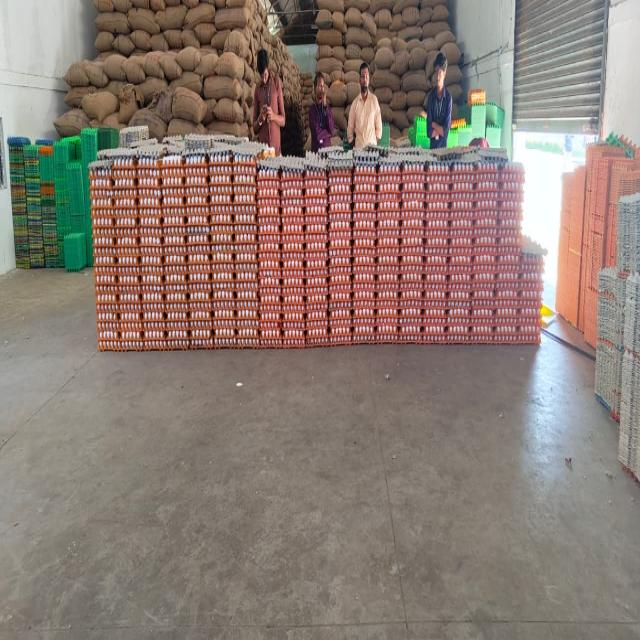egg_tray: (448, 163, 520, 341), (448, 164, 519, 341), (90, 153, 141, 348), (282, 159, 326, 344), (140, 205, 189, 349), (112, 157, 144, 350), (423, 167, 458, 341), (184, 151, 214, 346), (161, 152, 190, 348), (138, 154, 166, 350), (90, 161, 119, 350), (470, 162, 500, 343), (162, 151, 189, 348), (232, 152, 259, 346), (422, 164, 451, 342), (210, 151, 236, 346), (446, 163, 474, 343), (208, 152, 234, 345), (399, 164, 426, 341), (256, 163, 282, 345), (376, 163, 401, 342), (596, 269, 626, 415), (448, 247, 494, 342), (598, 270, 640, 373), (328, 167, 352, 343), (328, 168, 352, 344), (282, 166, 305, 346), (353, 164, 376, 342), (305, 167, 328, 344), (496, 254, 542, 342), (282, 167, 304, 345), (234, 204, 260, 345), (112, 158, 140, 285), (184, 154, 211, 281), (138, 157, 164, 288), (186, 227, 214, 346), (398, 218, 424, 341), (618, 274, 640, 416), (618, 342, 640, 480), (209, 153, 234, 273), (258, 221, 282, 345), (160, 153, 186, 254), (352, 166, 376, 273), (424, 244, 450, 341), (449, 163, 476, 256), (470, 246, 496, 341), (497, 163, 524, 254), (400, 167, 425, 265), (24, 145, 44, 267), (424, 164, 451, 254), (449, 193, 474, 289), (598, 268, 624, 359), (423, 248, 448, 341), (494, 291, 539, 342), (257, 157, 281, 252), (496, 247, 520, 341), (90, 161, 114, 255), (448, 249, 472, 343), (518, 254, 543, 342), (612, 193, 640, 271), (352, 211, 376, 299), (352, 211, 376, 294), (447, 264, 473, 340), (447, 302, 495, 343), (211, 207, 235, 289), (376, 256, 399, 341), (450, 164, 476, 239), (259, 257, 281, 345), (470, 273, 498, 342), (90, 161, 114, 238), (496, 256, 520, 333), (212, 268, 236, 345), (398, 271, 424, 340), (234, 274, 259, 345), (472, 193, 498, 260), (328, 202, 352, 274), (234, 276, 259, 345), (188, 280, 214, 345), (160, 152, 186, 214), (235, 275, 258, 345), (165, 285, 190, 349), (184, 152, 210, 213), (141, 285, 166, 348), (119, 285, 143, 350), (353, 274, 376, 341), (164, 227, 188, 291), (96, 285, 120, 349), (96, 285, 120, 348), (220, 137, 272, 166), (376, 274, 398, 342), (304, 281, 328, 343), (304, 169, 328, 231), (165, 287, 190, 346), (208, 151, 234, 205), (448, 210, 474, 263), (112, 150, 137, 205), (234, 203, 258, 260), (353, 164, 377, 221), (472, 233, 497, 286), (282, 285, 304, 345), (497, 200, 521, 255), (280, 167, 303, 224), (378, 163, 402, 217), (138, 147, 164, 196), (424, 203, 450, 252), (209, 151, 233, 204), (496, 210, 521, 260), (328, 169, 352, 221), (208, 152, 232, 204), (447, 289, 470, 343), (353, 288, 376, 341), (260, 291, 282, 345), (232, 156, 256, 205), (256, 162, 280, 211), (596, 361, 618, 414), (402, 160, 426, 207), (173, 134, 232, 153), (471, 246, 498, 287), (304, 169, 328, 215), (520, 252, 543, 300), (328, 299, 352, 344), (281, 164, 304, 210), (476, 163, 500, 207), (424, 193, 450, 233), (445, 302, 470, 343), (471, 298, 494, 342), (329, 300, 352, 344), (316, 143, 353, 170), (352, 162, 377, 201), (450, 162, 476, 199), (378, 160, 402, 200), (426, 163, 451, 201), (426, 186, 446, 233), (328, 167, 352, 205), (319, 149, 354, 175), (232, 151, 258, 186), (500, 162, 523, 201), (328, 163, 353, 198), (426, 162, 452, 195), (448, 158, 478, 184), (352, 162, 376, 193), (351, 148, 380, 170), (120, 126, 148, 148), (516, 320, 540, 343), (166, 317, 188, 339), (501, 302, 516, 333), (72, 211, 88, 232), (625, 310, 638, 334), (467, 89, 486, 104), (308, 280, 318, 307), (506, 186, 521, 200), (505, 194, 517, 211), (213, 269, 228, 281), (504, 302, 516, 314), (452, 239, 469, 247), (628, 290, 635, 308), (70, 162, 81, 172), (503, 267, 512, 278), (431, 167, 443, 174), (378, 227, 388, 234), (514, 190, 521, 198), (462, 256, 468, 265), (598, 346, 602, 358), (405, 260, 414, 265), (440, 175, 446, 182), (354, 198, 366, 201), (103, 243, 112, 247), (175, 343, 186, 346), (509, 214, 517, 218), (144, 309, 146, 324), (631, 281, 636, 287), (134, 234, 137, 243), (510, 203, 516, 207), (196, 291, 204, 294), (165, 138, 172, 141), (631, 275, 636, 279), (311, 276, 320, 278), (316, 172, 318, 181), (627, 222, 633, 225), (160, 163, 162, 172), (514, 181, 518, 185), (419, 250, 422, 255), (627, 221, 634, 223), (312, 311, 314, 317), (502, 292, 508, 294), (200, 284, 204, 287), (146, 330, 147, 341), (320, 281, 322, 286), (465, 212, 470, 214), (512, 215, 517, 217), (618, 274, 621, 277), (320, 228, 322, 232), (310, 205, 312, 209), (472, 292, 474, 296), (265, 218, 269, 220), (506, 214, 508, 218), (428, 239, 430, 243), (442, 203, 444, 207), (608, 363, 610, 367), (214, 264, 216, 268), (252, 198, 255, 200), (434, 239, 437, 241), (616, 355, 618, 358), (198, 284, 200, 287), (398, 214, 399, 218), (96, 244, 100, 245), (452, 184, 453, 188), (618, 388, 620, 390), (626, 380, 630, 381), (494, 341, 498, 342), (506, 329, 510, 330), (310, 338, 313, 339), (474, 292, 475, 295), (510, 224, 513, 225), (260, 245, 262, 246), (630, 327, 632, 328), (150, 330, 151, 332), (462, 240, 463, 242), (506, 215, 508, 216), (436, 180, 438, 181), (230, 267, 232, 268), (505, 298, 506, 299), (621, 422, 622, 423), (467, 243, 468, 244), (163, 230, 166, 230), (610, 321, 610, 322), (494, 239, 494, 243), (261, 294, 261, 294), (505, 238, 505, 238), (401, 266, 401, 268), (254, 191, 254, 194), (467, 278, 467, 279), (467, 246, 467, 247), (450, 238, 450, 240), (308, 154, 310, 154), (503, 338, 503, 338), (505, 304, 505, 306), (443, 222, 443, 225), (508, 208, 508, 210)
